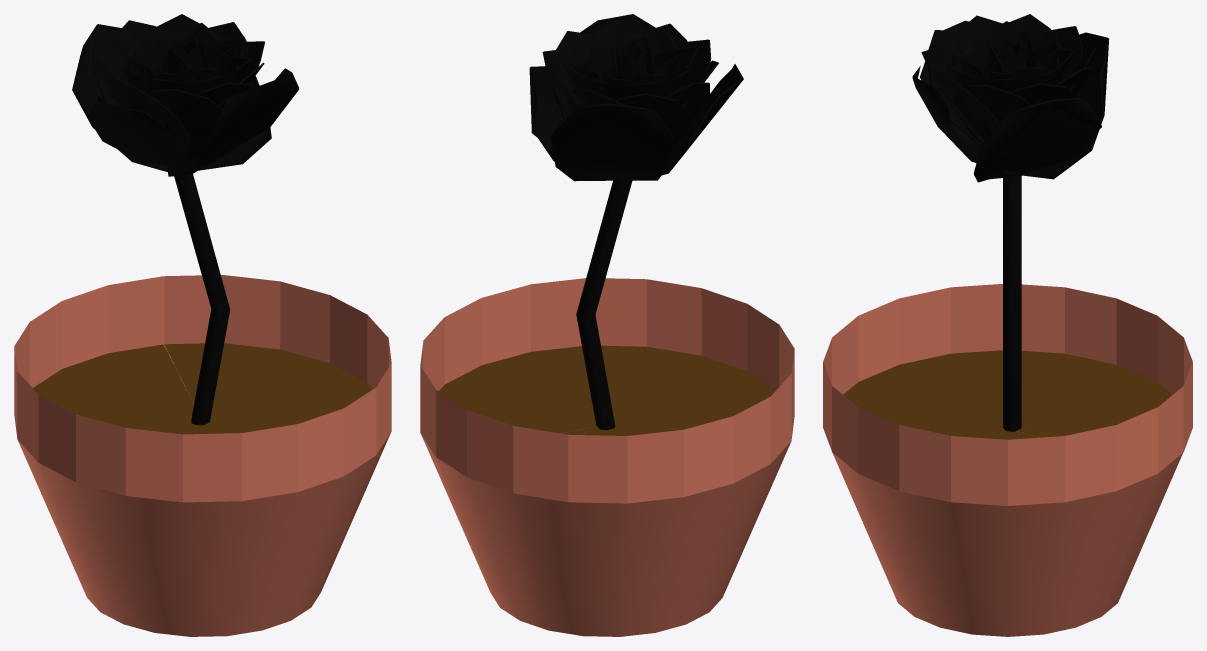
Rendered from flowerpot2.obj.
3 renders of one model, left to right at view 1: azimuth 30°, elevation 25°; view 2: azimuth 150°, elevation 25°; view 3: azimuth 270°, elevation 25°, orthographic. The views are drawn at different scales.
Visible parts, largest first — view 1: pCylinder4 group1, polySurface1; view 2: pCylinder4 group1, polySurface1; view 3: pCylinder4 group1, polySurface1.
Boxes of the visible parts, x1,y1,x2,y2 form: pCylinder4 group1: [14, 275, 391, 636]; polySurface1: [72, 14, 299, 425]; pCylinder4 group1: [420, 278, 794, 636]; polySurface1: [529, 14, 743, 430]; pCylinder4 group1: [823, 284, 1192, 636]; polySurface1: [912, 14, 1109, 431].
Bounding box in the file's own units: 1.23 × 1.97 × 1.23.
